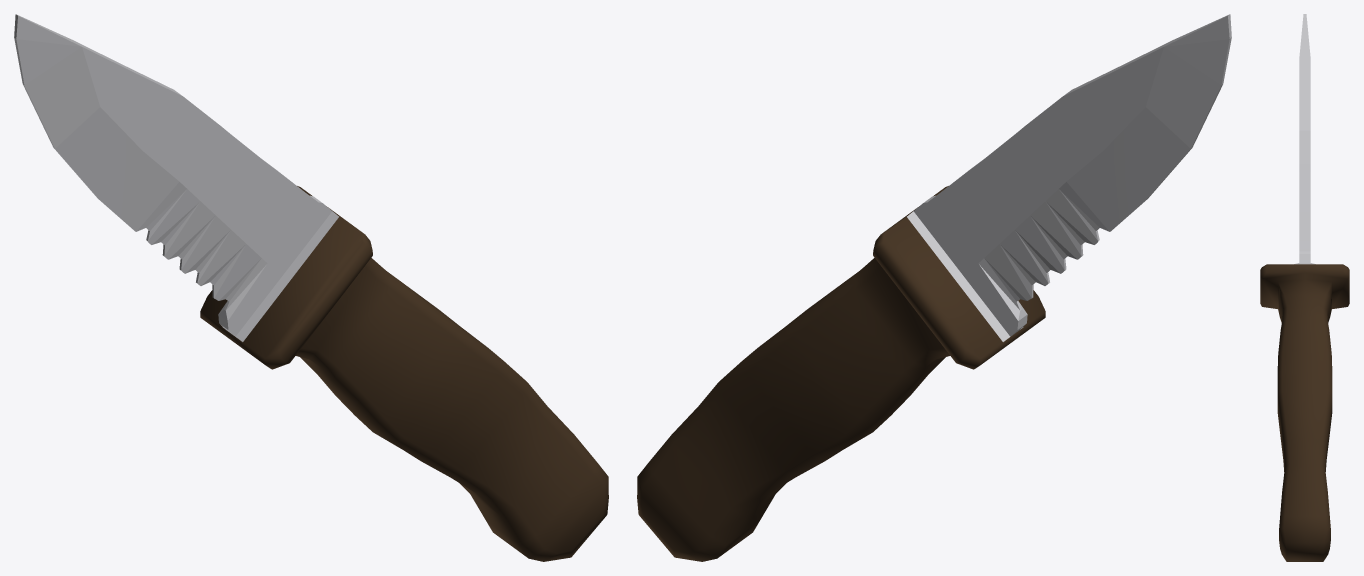
The model's file is knife.fbx.
3 views of the same model, side by side, from view 1: azimuth 30°, elevation 25°; view 2: azimuth 150°, elevation 25°; view 3: azimuth 270°, elevation 25° (orthographic). The views are drawn at different scales.
Parts seen in each view (by area): view 1: handle; view 2: handle; view 3: handle.
Boxes of the visible parts, bbox=[...] form: handle: bbox=[14, 14, 608, 561]; handle: bbox=[637, 14, 1231, 561]; handle: bbox=[1260, 14, 1349, 561].
Bounding box in the file's own units: 16.92 × 18.55 × 3.83.
